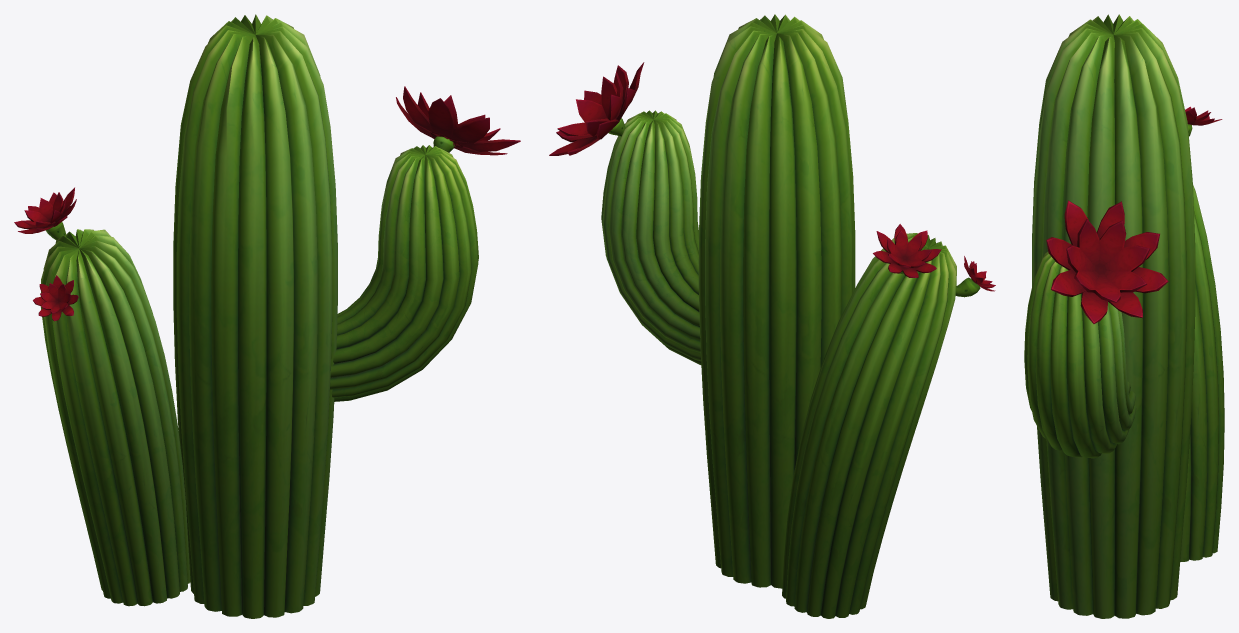
The model's file is DE_Cactus_33.fbx.
3 renders of one model, left to right at view 1: azimuth 30°, elevation 25°; view 2: azimuth 150°, elevation 25°; view 3: azimuth 270°, elevation 25°, orthographic. The views are drawn at different scales.
Visible parts, largest first — view 1: DE_Cactus_33; view 2: DE_Cactus_33; view 3: DE_Cactus_33.
Part boxes in pixels (left/top/right/bottom): DE_Cactus_33: left=14, top=14, right=520, bottom=618; DE_Cactus_33: left=549, top=14, right=995, bottom=618; DE_Cactus_33: left=1024, top=14, right=1224, bottom=618.
Bounding box in the file's own units: 6.32 × 7.34 × 2.35.
